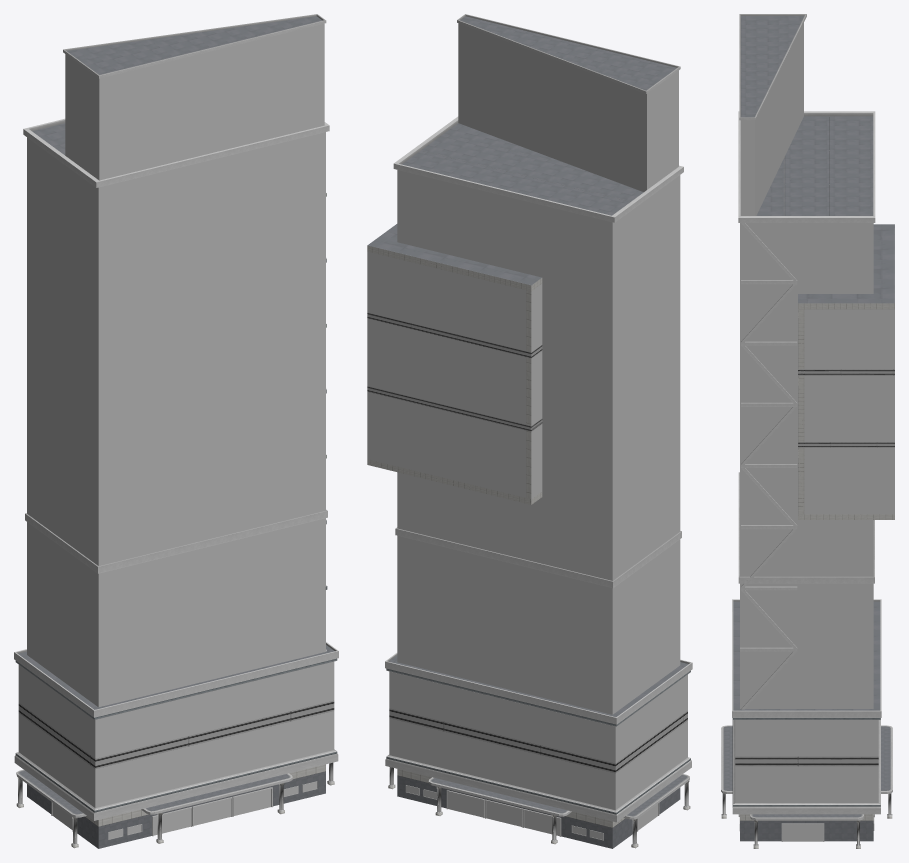
The model's file is TimeSquare.fbx.
The picture shows the model from 3 angles, left to right: view 1: azimuth 30°, elevation 25°; view 2: azimuth 150°, elevation 25°; view 3: azimuth 270°, elevation 25°; orthographic projection. The views are drawn at different scales.
Visible parts, largest first — view 1: TimeSquare; view 2: TimeSquare; view 3: TimeSquare.
Boxes of the visible parts, x1,y1,x2,y2 form: TimeSquare: (14,14,338,848); TimeSquare: (367,14,692,848); TimeSquare: (721,14,894,848).
Size of what is drawn, in the model's own units: 39.75 by 111 by 24.07.
